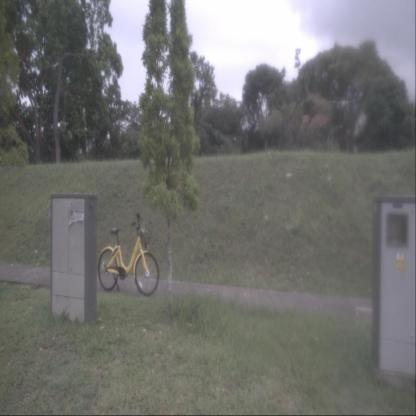vehicle-bicycle: (98, 214, 160, 296)
